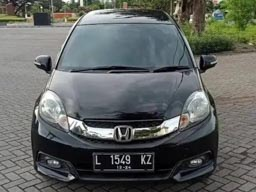plat: (92, 153, 154, 165)
